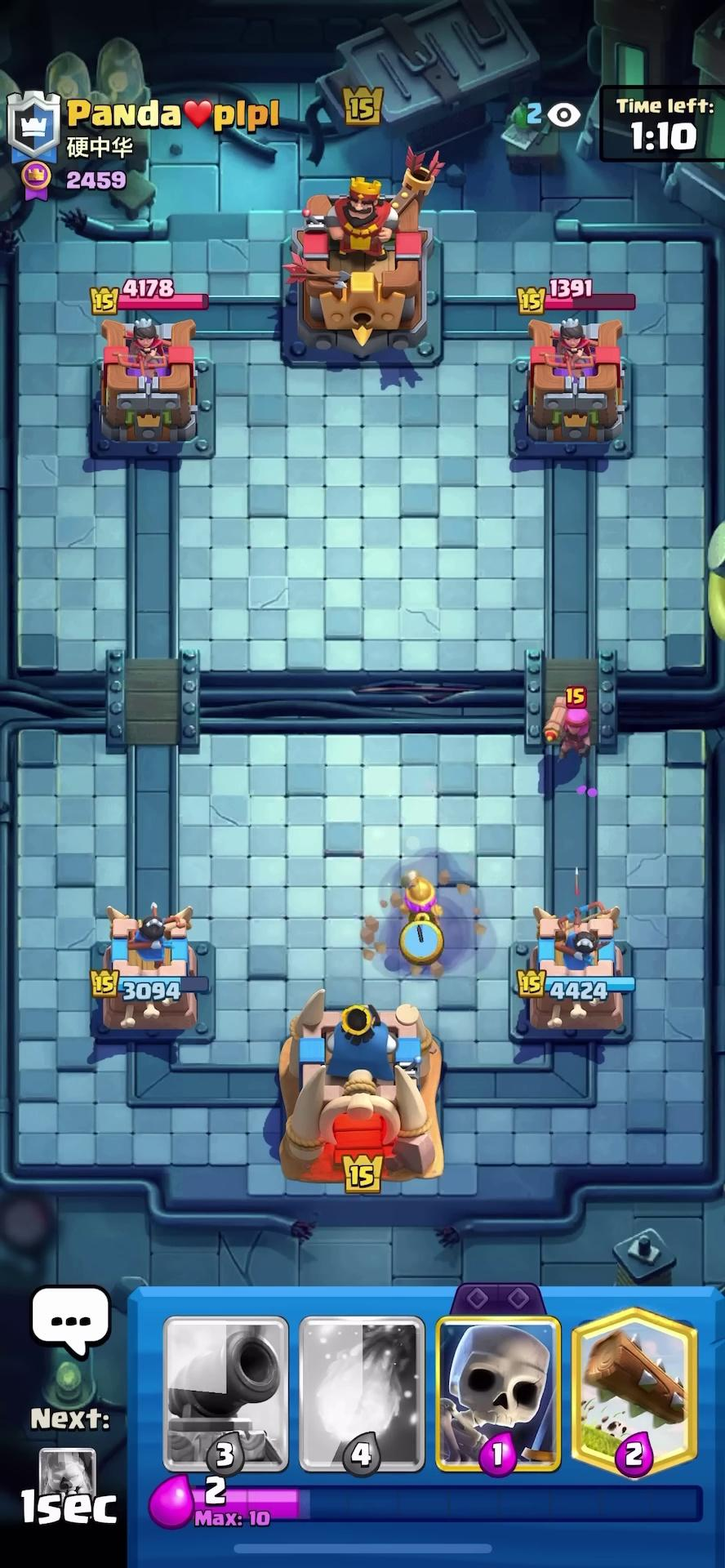musketeer: (386, 851, 451, 949)
